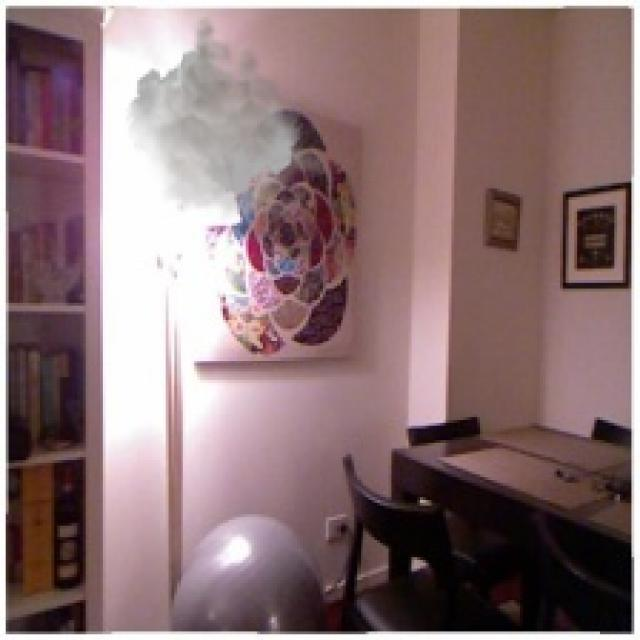Smoke: (125, 8, 328, 223)
